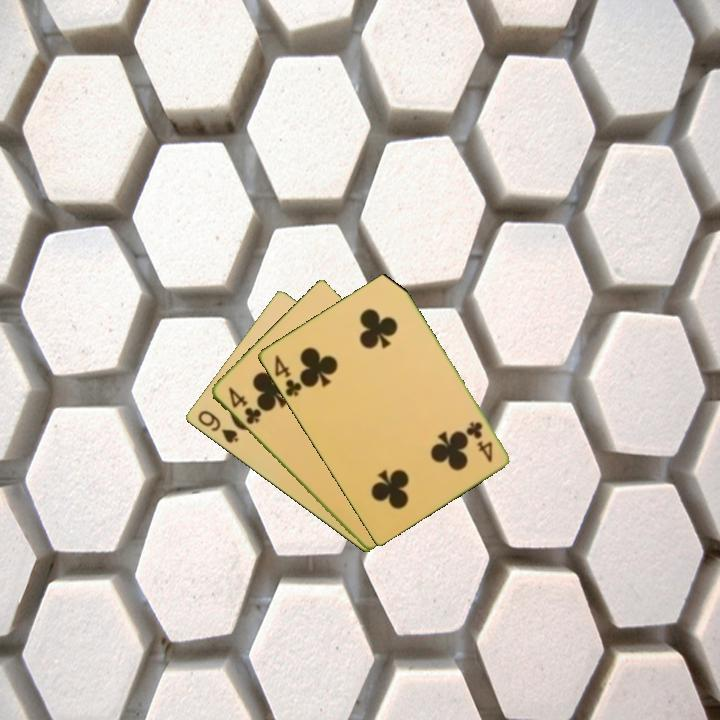4c: (224, 383, 264, 428), (270, 351, 304, 399), (463, 418, 495, 465)
9s: (194, 407, 241, 446)
